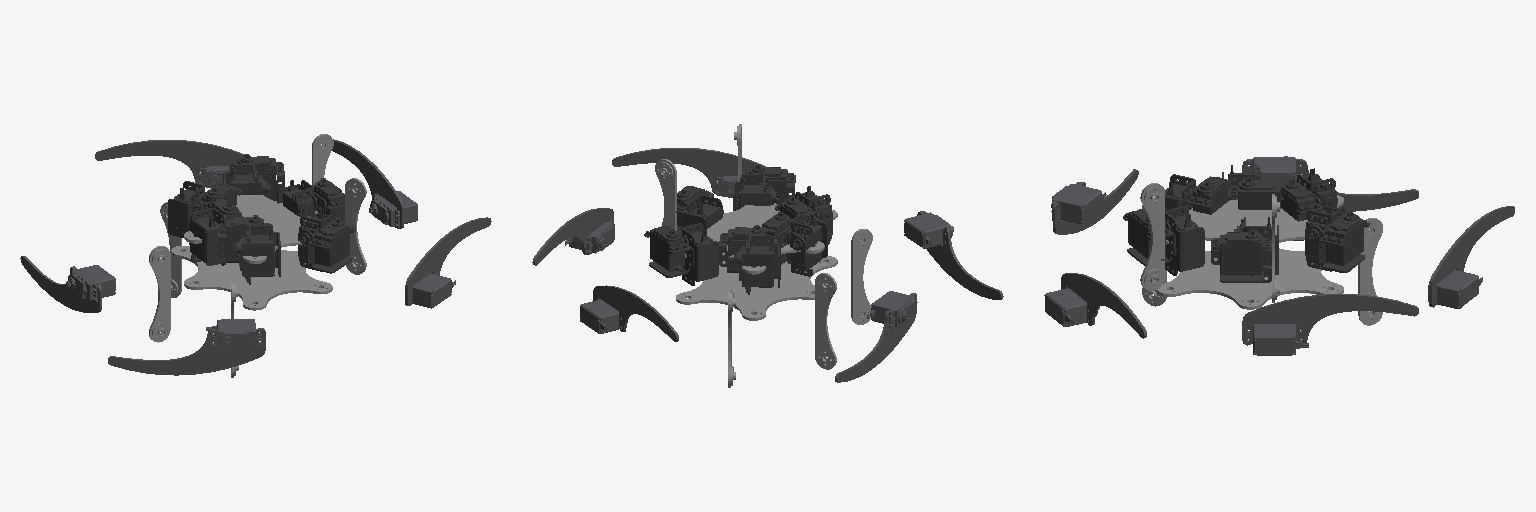
The robot description file, URDF, robot "spider":
<?xml version="1.0" encoding="utf-8"?>
<!-- This URDF was automatically created by SolidWorks to URDF Exporter! Originally created by Stephen Brawner ([email redacted]) 
     Commit Version: 1.5.1-0-g916b5db  Build Version: 1.5.7152.31018
     For more information, please see http://wiki.ros.org/sw_urdf_exporter -->
<robot
  name="spider">
  <link
    name="main_body">
    <inertial>
      <origin
        xyz="1.1976E-18 2.9807E-18 -0.024667"
        rpy="0 0 0" />
      <mass
        value="0.27159" />
      <inertia
        ixx="0.00047029"
        ixy="8.691E-20"
        ixz="9.2467E-22"
        iyy="0.00030006"
        iyz="2.8702E-20"
        izz="0.00076993" />
    </inertial>
    <visual>
      <origin
        xyz="0 0 0"
        rpy="0 0 0" />
      <geometry>
        <mesh
          filename="package://spider/meshes/main_body.STL" />
      </geometry>
      <material
        name="">
        <color
          rgba="0.5898 0.59177 0.59294 1" />
      </material>
    </visual>
    <collision>
      <origin
        xyz="0 0 0"
        rpy="0 0 0" />
      <geometry>
        <mesh
          filename="package://spider/meshes/main_body.STL" />
      </geometry>
    </collision>
  </link>
  <link
    name="L1_coxa">
    <inertial>
      <origin
        xyz="-0.01487 -0.0067728 -0.019757"
        rpy="0 0 0" />
      <mass
        value="0.14547" />
      <inertia
        ixx="4.1777E-05"
        ixy="-5.3557E-07"
        ixz="5.3584E-07"
        iyy="2.672E-05"
        iyz="-4.9151E-13"
        izz="2.672E-05" />
    </inertial>
    <visual>
      <origin
        xyz="0 0 0"
        rpy="0 0 0" />
      <geometry>
        <mesh
          filename="package://spider/meshes/L1_coxa.STL" />
      </geometry>
      <material
        name="">
        <color
          rgba="0.279216 0.281961 0.293333 1" />
      </material>
    </visual>
    <collision>
      <origin
        xyz="0 0 0"
        rpy="0 0 0" />
      <geometry>
        <mesh
          filename="package://spider/meshes/L1_coxa.STL" />
      </geometry>
    </collision>
  </link>
  <joint
    name="L1_joint1"
    type="revolute">
    <origin
      xyz="-0.04 0.0750000000000001 -0.002"
      rpy="0 0 -1.08083900054117" />
    <parent
      link="main_body" />
    <child
      link="L1_coxa" />
    <axis
      xyz="0 0 -1" />
    <limit
      lower="0"
      upper="0"
      effort="0"
      velocity="0" />
  </joint>
  <link
    name="L1_femur">
    <inertial>
      <origin
        xyz="0.0020723 -0.0425 -0.0029625"
        rpy="0 0 0" />
      <mass
        value="0.018954" />
      <inertia
        ixx="1.6508E-05"
        ixy="-4.0626E-21"
        ixz="-7.4283E-23"
        iyy="6.9019E-07"
        iyz="3.5999E-21"
        izz="1.7168E-05" />
    </inertial>
    <visual>
      <origin
        xyz="0 0 0"
        rpy="0 0 0" />
      <geometry>
        <mesh
          filename="package://spider/meshes/L1_femur.STL" />
      </geometry>
      <material
        name="">
        <color
          rgba="0.589804 0.592157 0.592941 1" />
      </material>
    </visual>
    <collision>
      <origin
        xyz="0 0 0"
        rpy="0 0 0" />
      <geometry>
        <mesh
          filename="package://spider/meshes/L1_femur.STL" />
      </geometry>
    </collision>
  </link>
  <joint
    name="L1_joint2"
    type="revolute">
    <origin
      xyz="-0.0297399999999999 0.0226716679866615 -0.0231716679866614"
      rpy="1.5707963267949 1.5707963267949 0" />
    <parent
      link="L1_coxa" />
    <child
      link="L1_femur" />
    <axis
      xyz="0 0 1" />
    <limit
      lower="0"
      upper="0"
      effort="0"
      velocity="0" />
  </joint>
  <link
    name="L1_tibia">
    <inertial>
      <origin
        xyz="0.0033475 0.0079586 -0.02165"
        rpy="0 0 0" />
      <mass
        value="0.083453" />
      <inertia
        ixx="1.127E-05"
        ixy="-6.8552E-06"
        ixz="-1.5501E-07"
        iyy="6.3949E-05"
        iyz="-1.3189E-10"
        izz="6.307E-05" />
    </inertial>
    <visual>
      <origin
        xyz="0 0 0"
        rpy="0 0 0" />
      <geometry>
        <mesh
          filename="package://spider/meshes/L1_tibia.STL" />
      </geometry>
      <material
        name="">
        <color
          rgba="0.379216 0.381961 0.393333 1" />
      </material>
    </visual>
    <collision>
      <origin
        xyz="0 0 0"
        rpy="0 0 0" />
      <geometry>
        <mesh
          filename="package://spider/meshes/L1_tibia.STL" />
      </geometry>
    </collision>
  </link>
  <joint
    name="L1_joint3"
    type="revolute">
    <origin
      xyz="0 -0.085 0"
      rpy="3.14159265358979 0 0" />
    <parent
      link="L1_femur" />
    <child
      link="L1_tibia" />
    <axis
      xyz="0 0 -1" />
    <limit
      lower="0"
      upper="0"
      effort="0"
      velocity="0" />
  </joint>
  <link
    name="L2_coxa">
    <inertial>
      <origin
        xyz="-0.01487 -0.0067728 -0.019757"
        rpy="0 0 0" />
      <mass
        value="0.14547" />
      <inertia
        ixx="4.1777E-05"
        ixy="-5.3557E-07"
        ixz="5.3584E-07"
        iyy="2.672E-05"
        iyz="1.0353E-20"
        izz="2.672E-05" />
    </inertial>
    <visual>
      <origin
        xyz="0 0 0"
        rpy="0 0 0" />
      <geometry>
        <mesh
          filename="package://spider/meshes/L2_coxa.STL" />
      </geometry>
      <material
        name="">
        <color
          rgba="0.279216 0.281961 0.293333 1" />
      </material>
    </visual>
    <collision>
      <origin
        xyz="0 0 0"
        rpy="0 0 0" />
      <geometry>
        <mesh
          filename="package://spider/meshes/L2_coxa.STL" />
      </geometry>
    </collision>
  </link>
  <joint
    name="L2_joint1"
    type="revolute">
    <origin
      xyz="-0.0678388218141501 0 -0.002"
      rpy="0 0 0" />
    <parent
      link="main_body" />
    <child
      link="L2_coxa" />
    <axis
      xyz="0 0 -1" />
    <limit
      lower="0"
      upper="0"
      effort="0"
      velocity="0" />
  </joint>
  <link
    name="L2_femur">
    <inertial>
      <origin
        xyz="0.0020723 -0.0425 -0.0029625"
        rpy="0 0 0" />
      <mass
        value="0.018954" />
      <inertia
        ixx="1.6508E-05"
        ixy="-2.0583E-21"
        ixz="5.7808E-23"
        iyy="6.9019E-07"
        iyz="-4.072E-24"
        izz="1.7168E-05" />
    </inertial>
    <visual>
      <origin
        xyz="0 0 0"
        rpy="0 0 0" />
      <geometry>
        <mesh
          filename="package://spider/meshes/L2_femur.STL" />
      </geometry>
      <material
        name="">
        <color
          rgba="0.589804 0.592157 0.592941 1" />
      </material>
    </visual>
    <collision>
      <origin
        xyz="0 0 0"
        rpy="0 0 0" />
      <geometry>
        <mesh
          filename="package://spider/meshes/L2_femur.STL" />
      </geometry>
    </collision>
  </link>
  <joint
    name="L2_joint2"
    type="revolute">
    <origin
      xyz="-0.02974 0.0226716679866614 -0.0231716679866613"
      rpy="1.5707963267949 1.5707963267949 0" />
    <parent
      link="L2_coxa" />
    <child
      link="L2_femur" />
    <axis
      xyz="0 0 1" />
    <limit
      lower="0"
      upper="0"
      effort="0"
      velocity="0" />
  </joint>
  <link
    name="L2_tibia">
    <inertial>
      <origin
        xyz="0.0033475 0.0079586 -0.02165"
        rpy="0 0 0" />
      <mass
        value="0.083453" />
      <inertia
        ixx="1.127E-05"
        ixy="-6.8552E-06"
        ixz="-1.5501E-07"
        iyy="6.3949E-05"
        iyz="-1.3191E-10"
        izz="6.307E-05" />
    </inertial>
    <visual>
      <origin
        xyz="0 0 0"
        rpy="0 0 0" />
      <geometry>
        <mesh
          filename="package://spider/meshes/L2_tibia.STL" />
      </geometry>
      <material
        name="">
        <color
          rgba="0.379216 0.381961 0.393333 1" />
      </material>
    </visual>
    <collision>
      <origin
        xyz="0 0 0"
        rpy="0 0 0" />
      <geometry>
        <mesh
          filename="package://spider/meshes/L2_tibia.STL" />
      </geometry>
    </collision>
  </link>
  <joint
    name="L2_joint3"
    type="revolute">
    <origin
      xyz="0 -0.085 0"
      rpy="3.14159265358979 0 0" />
    <parent
      link="L2_femur" />
    <child
      link="L2_tibia" />
    <axis
      xyz="0 0 -1" />
    <limit
      lower="0"
      upper="0"
      effort="0"
      velocity="0" />
  </joint>
  <link
    name="L3_coxa">
    <inertial>
      <origin
        xyz="-0.01487 -0.0067728 -0.019757"
        rpy="0 0 0" />
      <mass
        value="0.14547" />
      <inertia
        ixx="4.1777E-05"
        ixy="-5.3557E-07"
        ixz="5.3584E-07"
        iyy="2.672E-05"
        iyz="-4.5427E-13"
        izz="2.672E-05" />
    </inertial>
    <visual>
      <origin
        xyz="0 0 0"
        rpy="0 0 0" />
      <geometry>
        <mesh
          filename="package://spider/meshes/L3_coxa.STL" />
      </geometry>
      <material
        name="">
        <color
          rgba="0.279216 0.281961 0.293333 1" />
      </material>
    </visual>
    <collision>
      <origin
        xyz="0 0 0"
        rpy="0 0 0" />
      <geometry>
        <mesh
          filename="package://spider/meshes/L3_coxa.STL" />
      </geometry>
    </collision>
  </link>
  <joint
    name="L3_joint1"
    type="revolute">
    <origin
      xyz="-0.04 -0.075 -0.00199999999999999"
      rpy="0 0 1.08083900054117" />
    <parent
      link="main_body" />
    <child
      link="L3_coxa" />
    <axis
      xyz="0 0 -1" />
    <limit
      lower="0"
      upper="0"
      effort="0"
      velocity="0" />
  </joint>
  <link
    name="L3_femur">
    <inertial>
      <origin
        xyz="0.0020723 -0.0425 -0.0029625"
        rpy="0 0 0" />
      <mass
        value="0.018954" />
      <inertia
        ixx="1.6508E-05"
        ixy="-3.6245E-21"
        ixz="2.7205E-23"
        iyy="6.9019E-07"
        iyz="-3.5999E-21"
        izz="1.7168E-05" />
    </inertial>
    <visual>
      <origin
        xyz="0 0 0"
        rpy="0 0 0" />
      <geometry>
        <mesh
          filename="package://spider/meshes/L3_femur.STL" />
      </geometry>
      <material
        name="">
        <color
          rgba="0.589804 0.592157 0.592941 1" />
      </material>
    </visual>
    <collision>
      <origin
        xyz="0 0 0"
        rpy="0 0 0" />
      <geometry>
        <mesh
          filename="package://spider/meshes/L3_femur.STL" />
      </geometry>
    </collision>
  </link>
  <joint
    name="L3_joint2"
    type="revolute">
    <origin
      xyz="-0.0297400000000001 0.0226716679866626 -0.0231716679866611"
      rpy="1.5707963267949 1.5707963267949 0" />
    <parent
      link="L3_coxa" />
    <child
      link="L3_femur" />
    <axis
      xyz="0 0 1" />
    <limit
      lower="0"
      upper="0"
      effort="0"
      velocity="0" />
  </joint>
  <link
    name="L3_tibia">
    <inertial>
      <origin
        xyz="0.0033475 0.0079586 -0.02165"
        rpy="0 0 0" />
      <mass
        value="0.083453" />
      <inertia
        ixx="1.127E-05"
        ixy="-6.8552E-06"
        ixz="-1.5501E-07"
        iyy="6.3949E-05"
        iyz="-1.3193E-10"
        izz="6.307E-05" />
    </inertial>
    <visual>
      <origin
        xyz="0 0 0"
        rpy="0 0 0" />
      <geometry>
        <mesh
          filename="package://spider/meshes/L3_tibia.STL" />
      </geometry>
      <material
        name="">
        <color
          rgba="0.379216 0.381961 0.393333 1" />
      </material>
    </visual>
    <collision>
      <origin
        xyz="0 0 0"
        rpy="0 0 0" />
      <geometry>
        <mesh
          filename="package://spider/meshes/L3_tibia.STL" />
      </geometry>
    </collision>
  </link>
  <joint
    name="L3_joint3"
    type="revolute">
    <origin
      xyz="0 -0.085 0"
      rpy="3.14159265358979 0 0" />
    <parent
      link="L3_femur" />
    <child
      link="L3_tibia" />
    <axis
      xyz="0 0 -1" />
    <limit
      lower="0"
      upper="0"
      effort="0"
      velocity="0" />
  </joint>
  <link
    name="R1_coxa">
    <inertial>
      <origin
        xyz="-0.01487 0.0067728 -0.019757"
        rpy="0 0 0" />
      <mass
        value="0.14547" />
      <inertia
        ixx="4.1777E-05"
        ixy="5.3574E-07"
        ixz="5.3547E-07"
        iyy="2.672E-05"
        iyz="4.5427E-13"
        izz="2.672E-05" />
    </inertial>
    <visual>
      <origin
        xyz="0 0 0"
        rpy="0 0 0" />
      <geometry>
        <mesh
          filename="package://spider/meshes/R1_coxa.STL" />
      </geometry>
      <material
        name="">
        <color
          rgba="0.279216 0.281961 0.293333 1" />
      </material>
    </visual>
    <collision>
      <origin
        xyz="0 0 0"
        rpy="0 0 0" />
      <geometry>
        <mesh
          filename="package://spider/meshes/R1_coxa.STL" />
      </geometry>
    </collision>
  </link>
  <joint
    name="R1_joint1"
    type="revolute">
    <origin
      xyz="0.04 0.0750000000000001 -0.00200000000000001"
      rpy="0 0 -2.06075365304863" />
    <parent
      link="main_body" />
    <child
      link="R1_coxa" />
    <axis
      xyz="0 0 -1" />
    <limit
      lower="0"
      upper="0"
      effort="0"
      velocity="0" />
  </joint>
  <link
    name="R1_femur">
    <inertial>
      <origin
        xyz="0.0020723 -0.0425 0.0029625"
        rpy="0 0 0" />
      <mass
        value="0.018954" />
      <inertia
        ixx="1.6508E-05"
        ixy="2.5911E-21"
        ixz="8.3557E-23"
        iyy="6.9019E-07"
        iyz="-4.6322E-21"
        izz="1.7168E-05" />
    </inertial>
    <visual>
      <origin
        xyz="0 0 0"
        rpy="0 0 0" />
      <geometry>
        <mesh
          filename="package://spider/meshes/R1_femur.STL" />
      </geometry>
      <material
        name="">
        <color
          rgba="0.589804 0.592157 0.592941 1" />
      </material>
    </visual>
    <collision>
      <origin
        xyz="0 0 0"
        rpy="0 0 0" />
      <geometry>
        <mesh
          filename="package://spider/meshes/R1_femur.STL" />
      </geometry>
    </collision>
  </link>
  <joint
    name="R1_joint2"
    type="revolute">
    <origin
      xyz="-0.02974 -0.0226716679866614 -0.0231716679866613"
      rpy="1.5707963267949 1.5707963267949 0" />
    <parent
      link="R1_coxa" />
    <child
      link="R1_femur" />
    <axis
      xyz="0 0 -1" />
    <limit
      lower="0"
      upper="0"
      effort="0"
      velocity="0" />
  </joint>
  <link
    name="R1_tibia">
    <inertial>
      <origin
        xyz="0.0033475 -0.0079584 -0.02165"
        rpy="0 0 0" />
      <mass
        value="0.083453" />
      <inertia
        ixx="1.127E-05"
        ixy="6.8553E-06"
        ixz="-1.5497E-07"
        iyy="6.3949E-05"
        iyz="-1.3193E-10"
        izz="6.307E-05" />
    </inertial>
    <visual>
      <origin
        xyz="0 0 0"
        rpy="0 0 0" />
      <geometry>
        <mesh
          filename="package://spider/meshes/R1_tibia.STL" />
      </geometry>
      <material
        name="">
        <color
          rgba="0.379216 0.381961 0.393333 1" />
      </material>
    </visual>
    <collision>
      <origin
        xyz="0 0 0"
        rpy="0 0 0" />
      <geometry>
        <mesh
          filename="package://spider/meshes/R1_tibia.STL" />
      </geometry>
    </collision>
  </link>
  <joint
    name="R1_joint3"
    type="revolute">
    <origin
      xyz="0 -0.085 0"
      rpy="0 0 0" />
    <parent
      link="R1_femur" />
    <child
      link="R1_tibia" />
    <axis
      xyz="0 0 -1" />
    <limit
      lower="0"
      upper="0"
      effort="0"
      velocity="0" />
  </joint>
  <link
    name="R2_coxa">
    <inertial>
      <origin
        xyz="-0.01487 0.0067728 -0.019757"
        rpy="0 0 0" />
      <mass
        value="0.14547" />
      <inertia
        ixx="4.1777E-05"
        ixy="5.3574E-07"
        ixz="5.3547E-07"
        iyy="2.672E-05"
        iyz="-7.6331E-21"
        izz="2.672E-05" />
    </inertial>
    <visual>
      <origin
        xyz="0 0 0"
        rpy="0 0 0" />
      <geometry>
        <mesh
          filename="package://spider/meshes/R2_coxa.STL" />
      </geometry>
      <material
        name="">
        <color
          rgba="0.279216 0.281961 0.293333 1" />
      </material>
    </visual>
    <collision>
      <origin
        xyz="0 0 0"
        rpy="0 0 0" />
      <geometry>
        <mesh
          filename="package://spider/meshes/R2_coxa.STL" />
      </geometry>
    </collision>
  </link>
  <joint
    name="R2_joint1"
    type="revolute">
    <origin
      xyz="0.0678388218141501 0 -0.00200000000000001"
      rpy="0 0 3.14159265358979" />
    <parent
      link="main_body" />
    <child
      link="R2_coxa" />
    <axis
      xyz="0 0 -1" />
    <limit
      lower="0"
      upper="0"
      effort="0"
      velocity="0" />
  </joint>
  <link
    name="R2_femur">
    <inertial>
      <origin
        xyz="0.0020723 -0.0425 0.0029625"
        rpy="0 0 0" />
      <mass
        value="0.018954" />
      <inertia
        ixx="1.6508E-05"
        ixy="5.3744E-22"
        ixz="4.0771E-23"
        iyy="6.9019E-07"
        iyz="-1.6472E-22"
        izz="1.7168E-05" />
    </inertial>
    <visual>
      <origin
        xyz="0 0 0"
        rpy="0 0 0" />
      <geometry>
        <mesh
          filename="package://spider/meshes/R2_femur.STL" />
      </geometry>
      <material
        name="">
        <color
          rgba="0.589804 0.592157 0.592941 1" />
      </material>
    </visual>
    <collision>
      <origin
        xyz="0 0 0"
        rpy="0 0 0" />
      <geometry>
        <mesh
          filename="package://spider/meshes/R2_femur.STL" />
      </geometry>
    </collision>
  </link>
  <joint
    name="R2_joint2"
    type="revolute">
    <origin
      xyz="-0.02974 -0.0226716679866615 -0.0231716679866613"
      rpy="1.5707963267949 1.5707963267949 0" />
    <parent
      link="R2_coxa" />
    <child
      link="R2_femur" />
    <axis
      xyz="0 0 -1" />
    <limit
      lower="0"
      upper="0"
      effort="0"
      velocity="0" />
  </joint>
  <link
    name="R2_tibia">
    <inertial>
      <origin
        xyz="0.0033475 -0.0079584 -0.02165"
        rpy="0 0 0" />
      <mass
        value="0.083453" />
      <inertia
        ixx="1.127E-05"
        ixy="6.8553E-06"
        ixz="-1.5497E-07"
        iyy="6.3949E-05"
        iyz="-1.3191E-10"
        izz="6.307E-05" />
    </inertial>
    <visual>
      <origin
        xyz="0 0 0"
        rpy="0 0 0" />
      <geometry>
        <mesh
          filename="package://spider/meshes/R2_tibia.STL" />
      </geometry>
      <material
        name="">
        <color
          rgba="0.379216 0.381961 0.393333 1" />
      </material>
    </visual>
    <collision>
      <origin
        xyz="0 0 0"
        rpy="0 0 0" />
      <geometry>
        <mesh
          filename="package://spider/meshes/R2_tibia.STL" />
      </geometry>
    </collision>
  </link>
  <joint
    name="R2_joint3"
    type="revolute">
    <origin
      xyz="0 -0.085 0"
      rpy="0 0 0" />
    <parent
      link="R2_femur" />
    <child
      link="R2_tibia" />
    <axis
      xyz="0 0 -1" />
    <limit
      lower="0"
      upper="0"
      effort="0"
      velocity="0" />
  </joint>
  <link
    name="R3_coxa">
    <inertial>
      <origin
        xyz="-0.01487 0.0067728 -0.019757"
        rpy="0 0 0" />
      <mass
        value="0.14547" />
      <inertia
        ixx="4.1777E-05"
        ixy="5.3574E-07"
        ixz="5.3547E-07"
        iyy="2.672E-05"
        iyz="4.9151E-13"
        izz="2.672E-05" />
    </inertial>
    <visual>
      <origin
        xyz="0 0 0"
        rpy="0 0 0" />
      <geometry>
        <mesh
          filename="package://spider/meshes/R3_coxa.STL" />
      </geometry>
      <material
        name="">
        <color
          rgba="0.279216 0.281961 0.293333 1" />
      </material>
    </visual>
    <collision>
      <origin
        xyz="0 0 0"
        rpy="0 0 0" />
      <geometry>
        <mesh
          filename="package://spider/meshes/R3_coxa.STL" />
      </geometry>
    </collision>
  </link>
  <joint
    name="R3_joint1"
    type="revolute">
    <origin
      xyz="0.04 -0.075 -0.002"
      rpy="0 0 2.06075365304862" />
    <parent
      link="main_body" />
    <child
      link="R3_coxa" />
    <axis
      xyz="0 0 -1" />
    <limit
      lower="0"
      upper="0"
      effort="0"
      velocity="0" />
  </joint>
  <link
    name="R3_femur">
    <inertial>
      <origin
        xyz="0.0020723 -0.0425 0.0029625"
        rpy="0 0 0" />
      <mass
        value="0.018954" />
      <inertia
        ixx="1.6508E-05"
        ixy="-2.1864E-21"
        ixz="4.2611E-23"
        iyy="6.9019E-07"
        iyz="7.9409E-23"
        izz="1.7168E-05" />
    </inertial>
    <visual>
      <origin
        xyz="0 0 0"
        rpy="0 0 0" />
      <geometry>
        <mesh
          filename="package://spider/meshes/R3_femur.STL" />
      </geometry>
      <material
        name="">
        <color
          rgba="0.589804 0.592157 0.592941 1" />
      </material>
    </visual>
    <collision>
      <origin
        xyz="0 0 0"
        rpy="0 0 0" />
      <geometry>
        <mesh
          filename="package://spider/meshes/R3_femur.STL" />
      </geometry>
    </collision>
  </link>
  <joint
    name="R3_joint2"
    type="revolute">
    <origin
      xyz="-0.02974 -0.0226716679866615 -0.0231716679866613"
      rpy="1.5707963267949 1.5707963267949 0" />
    <parent
      link="R3_coxa" />
    <child
      link="R3_femur" />
    <axis
      xyz="0 0 -1" />
    <limit
      lower="0"
      upper="0"
      effort="0"
      velocity="0" />
  </joint>
  <link
    name="R3_tibia">
    <inertial>
      <origin
        xyz="0.0033475 -0.0079584 -0.02165"
        rpy="0 0 0" />
      <mass
        value="0.083453" />
      <inertia
        ixx="1.127E-05"
        ixy="6.8553E-06"
        ixz="-1.5497E-07"
        iyy="6.3949E-05"
        iyz="-1.3189E-10"
        izz="6.307E-05" />
    </inertial>
    <visual>
      <origin
        xyz="0 0 0"
        rpy="0 0 0" />
      <geometry>
        <mesh
          filename="package://spider/meshes/R3_tibia.STL" />
      </geometry>
      <material
        name="">
        <color
          rgba="0.379216 0.381961 0.393333 1" />
      </material>
    </visual>
    <collision>
      <origin
        xyz="0 0 0"
        rpy="0 0 0" />
      <geometry>
        <mesh
          filename="package://spider/meshes/R3_tibia.STL" />
      </geometry>
    </collision>
  </link>
  <joint
    name="R3_joint3"
    type="revolute">
    <origin
      xyz="0 -0.085 0"
      rpy="0 0 0" />
    <parent
      link="R3_femur" />
    <child
      link="R3_tibia" />
    <axis
      xyz="0 0 -1" />
    <limit
      lower="0"
      upper="0"
      effort="0"
      velocity="0" />
  </joint>
</robot>

--- Facts derived from the render (not from the file) ---
Views: 3 orthographic renders of the robot side by side, from view 1: azimuth 30°, elevation 25°; view 2: azimuth 150°, elevation 25°; view 3: azimuth 270°, elevation 25°.
Model spider with 19 links and 18 joints (18 revolute), rooted at main_body, posed every joint at zero.
Links seen in each view (by area): view 1: main_body, L3_tibia, R1_tibia, L3_coxa, R3_tibia, R3_coxa, L2_tibia, R2_tibia, R1_coxa, L2_coxa, R2_coxa, L1_coxa (+4 smaller); view 2: main_body, R1_coxa, L1_coxa, R3_tibia, R1_tibia, L2_tibia, L3_tibia, L2_coxa, R2_tibia, R3_coxa, R2_coxa, L2_femur (+3 smaller); view 3: main_body, R2_tibia, R1_coxa, R3_coxa, R2_coxa, R1_tibia, R3_tibia, L3_tibia, L2_tibia, L3_coxa, R3_femur, L1_coxa (+2 smaller).
Boxes of the visible links, x1,y1,x2,y2 form: main_body: [171, 195, 332, 310]; L3_tibia: [108, 319, 265, 375]; R1_tibia: [95, 140, 244, 187]; L3_coxa: [218, 215, 280, 284]; R3_tibia: [405, 217, 491, 308]; R3_coxa: [298, 208, 355, 273]; L2_tibia: [20, 256, 115, 312]; R2_tibia: [332, 139, 417, 228]; R1_coxa: [223, 154, 284, 200]; L2_coxa: [189, 199, 242, 265]; R2_coxa: [277, 178, 344, 221]; L1_coxa: [168, 181, 241, 237]; main_body: [676, 203, 837, 320]; R1_coxa: [644, 223, 718, 285]; L1_coxa: [719, 225, 780, 294]; R3_tibia: [612, 148, 765, 197]; R1_tibia: [580, 285, 678, 341]; L2_tibia: [835, 291, 917, 382]; L3_tibia: [904, 211, 1003, 299]; L2_coxa: [761, 212, 827, 276]; R2_tibia: [532, 208, 614, 265]; R3_coxa: [733, 164, 795, 210]; R2_coxa: [676, 186, 723, 234]; L2_femur: [815, 273, 836, 369]; main_body: [1157, 195, 1343, 309]; R2_tibia: [1242, 294, 1418, 355]; R1_coxa: [1305, 200, 1369, 272]; R3_coxa: [1123, 206, 1204, 275]; R2_coxa: [1211, 217, 1278, 282]; R1_tibia: [1428, 206, 1514, 308]; R3_tibia: [1044, 273, 1146, 338]; L3_tibia: [1051, 169, 1138, 234]; L2_tibia: [1242, 156, 1418, 211]; L3_coxa: [1165, 174, 1231, 214]; R3_femur: [1140, 183, 1164, 290]; L1_coxa: [1280, 168, 1337, 240].
Bounding box of the posed robot: 0.4681 × 0.4406 × 0.1948 m (x, y, z).
17 mesh visuals loaded from 19 distinct referenced files (17 binary STL); not drawn: 2 (reference not matched to a file when rendering).
